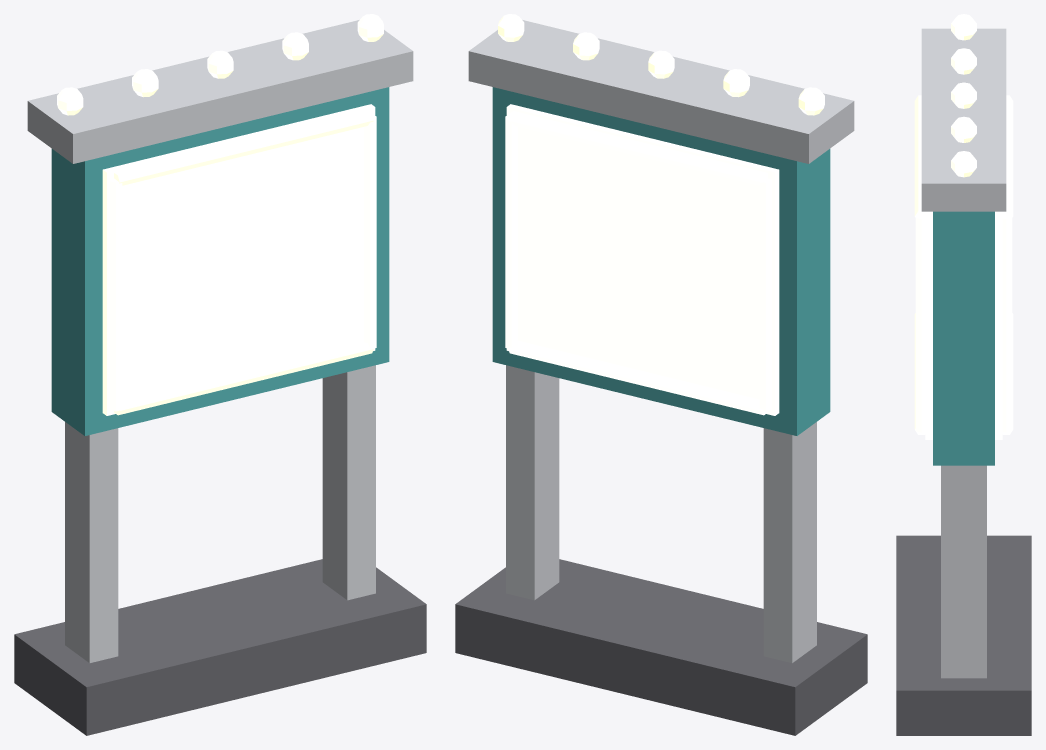
The model's file is retro-diner-and-roadside-motel-rooftop-sign-pylon-c6442d27__37344.glb.
3 renders of one model, left to right at view 1: azimuth 30°, elevation 25°; view 2: azimuth 150°, elevation 25°; view 3: azimuth 270°, elevation 25°, orthographic. The views are drawn at different scales.
Parts seen in each view (by area): view 1: rooftop-sign-pylon-neon, rooftop-sign-pylon-chrome, rooftop-sign-pylon-asphalt, rooftop-sign-pylon-turquoise; view 2: rooftop-sign-pylon-neon, rooftop-sign-pylon-chrome, rooftop-sign-pylon-asphalt, rooftop-sign-pylon-turquoise; view 3: rooftop-sign-pylon-chrome, rooftop-sign-pylon-asphalt, rooftop-sign-pylon-turquoise, rooftop-sign-pylon-neon.
Boxes of the visible parts, x1,y1,x2,y2 form: rooftop-sign-pylon-neon: (57,14,383,415); rooftop-sign-pylon-chrome: (27,20,413,663); rooftop-sign-pylon-asphalt: (14,559,426,735); rooftop-sign-pylon-turquoise: (51,87,389,435); rooftop-sign-pylon-neon: (498,14,824,415); rooftop-sign-pylon-chrome: (468,20,854,663); rooftop-sign-pylon-asphalt: (455,559,867,735); rooftop-sign-pylon-turquoise: (492,87,830,435); rooftop-sign-pylon-chrome: (921,28,1006,678); rooftop-sign-pylon-asphalt: (896,535,1031,735); rooftop-sign-pylon-turquoise: (933,211,994,465); rooftop-sign-pylon-neon: (914,14,1013,439).
Size of the model in its own units: 1.9 by 3.29 by 0.7001.
